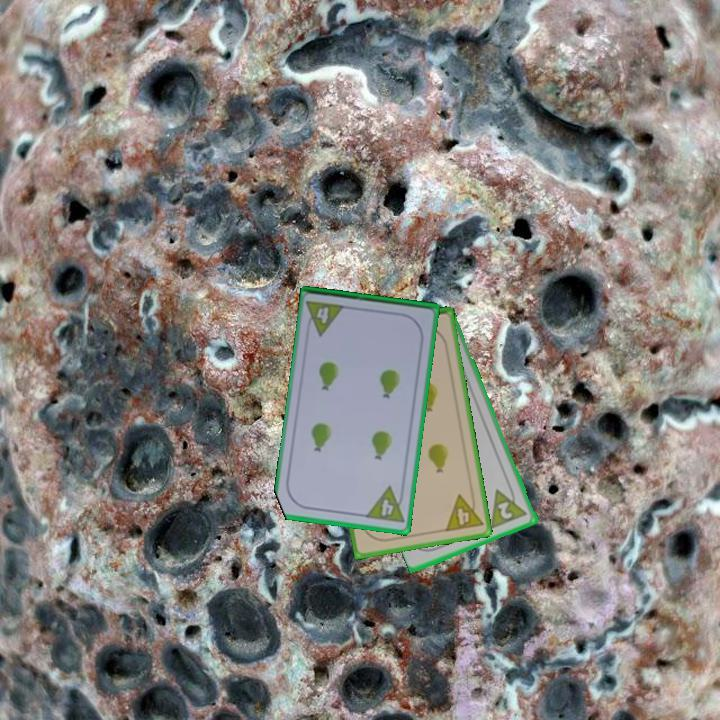2p: (487, 481, 531, 531)
4p: (442, 489, 486, 534), (362, 483, 408, 526), (303, 297, 348, 338)
